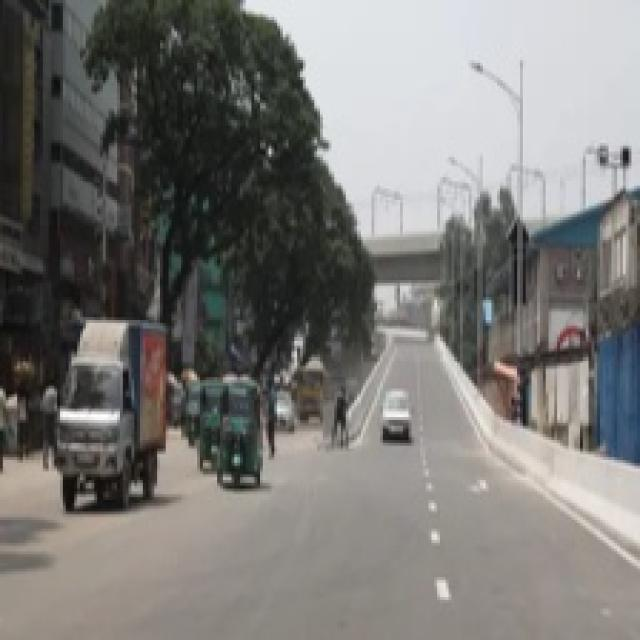car: (45, 343, 155, 509), (378, 388, 416, 449), (272, 385, 296, 436)
